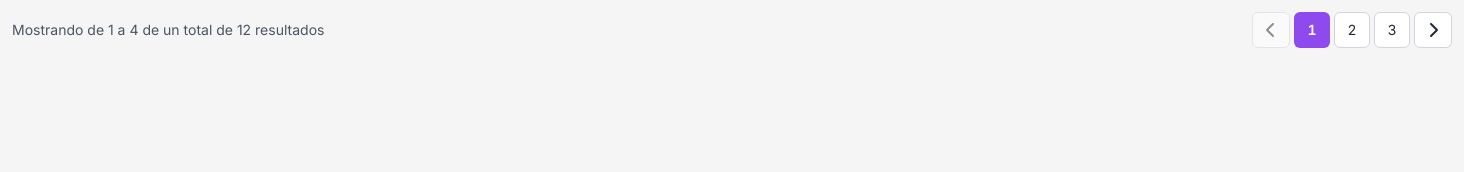
Test: data components › PPagination shows the range, aria-current and Anterior/Siguiente
Expected: the text "Mostrando de 1 a 4 de un total de 12 resultados" is shown, [12,20,324,40]
Expected: the button named "Anterior" is disabled, [1252,12,1290,48]
Click the button named "Siguiente": (1433, 30) [1414,12,1452,48]
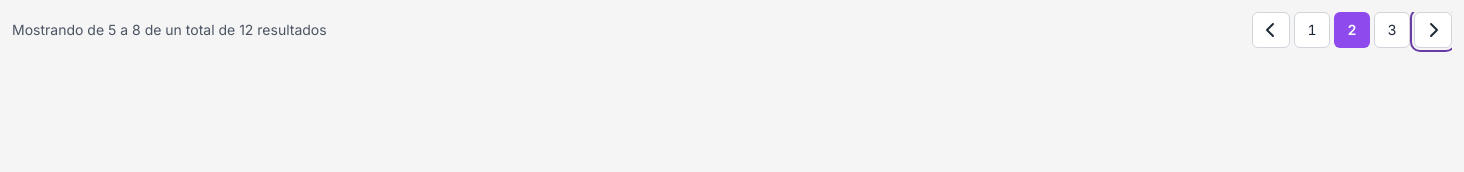
Result: the text "Mostrando de 5 a 8 de un total de 12 resultados" is shown at [12,20,327,40]
